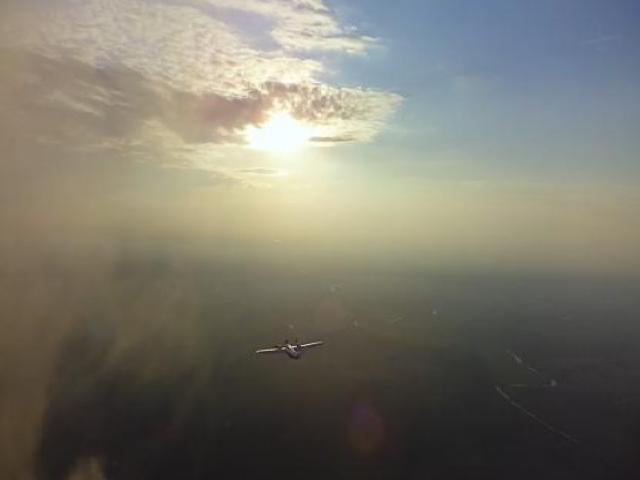uav: (250, 335, 327, 362)
